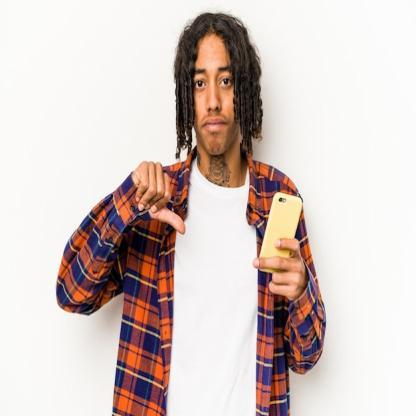thumb_down: (129, 154, 187, 241)
